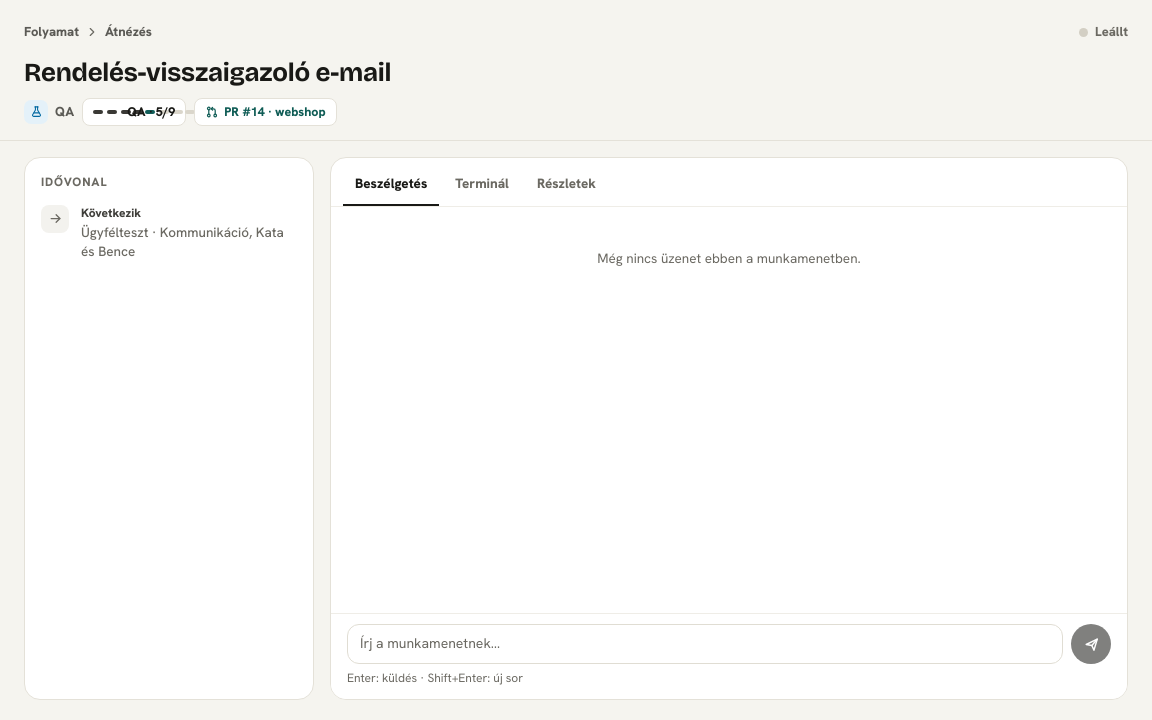
Test case: token usage of the session (PM-178) › says "no data" for a session from before the measurement, without an error
The image size is (1152, 720).
Click the tab "Részletek": coordinates (566, 185) 525,164 -> 608,206
(page scrolled)
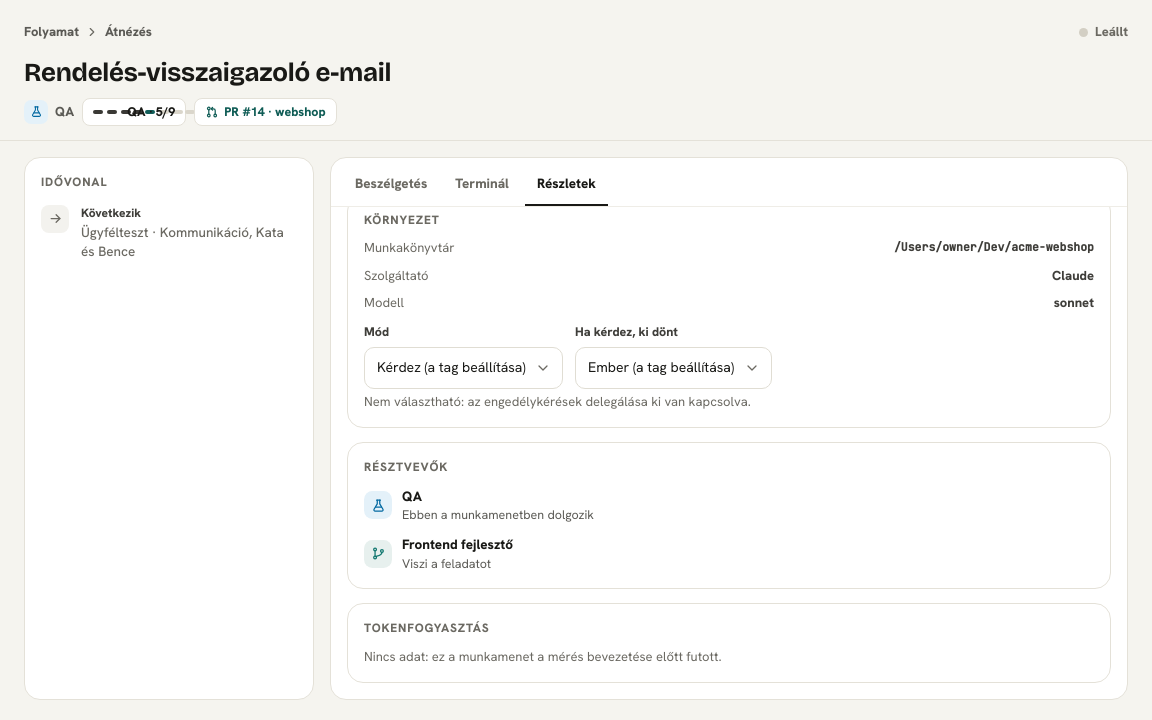
Expected: the text "Nincs adat: ez a munkamenet a mérés bevezetése előtt futott." is shown, 364,648 -> 722,665
